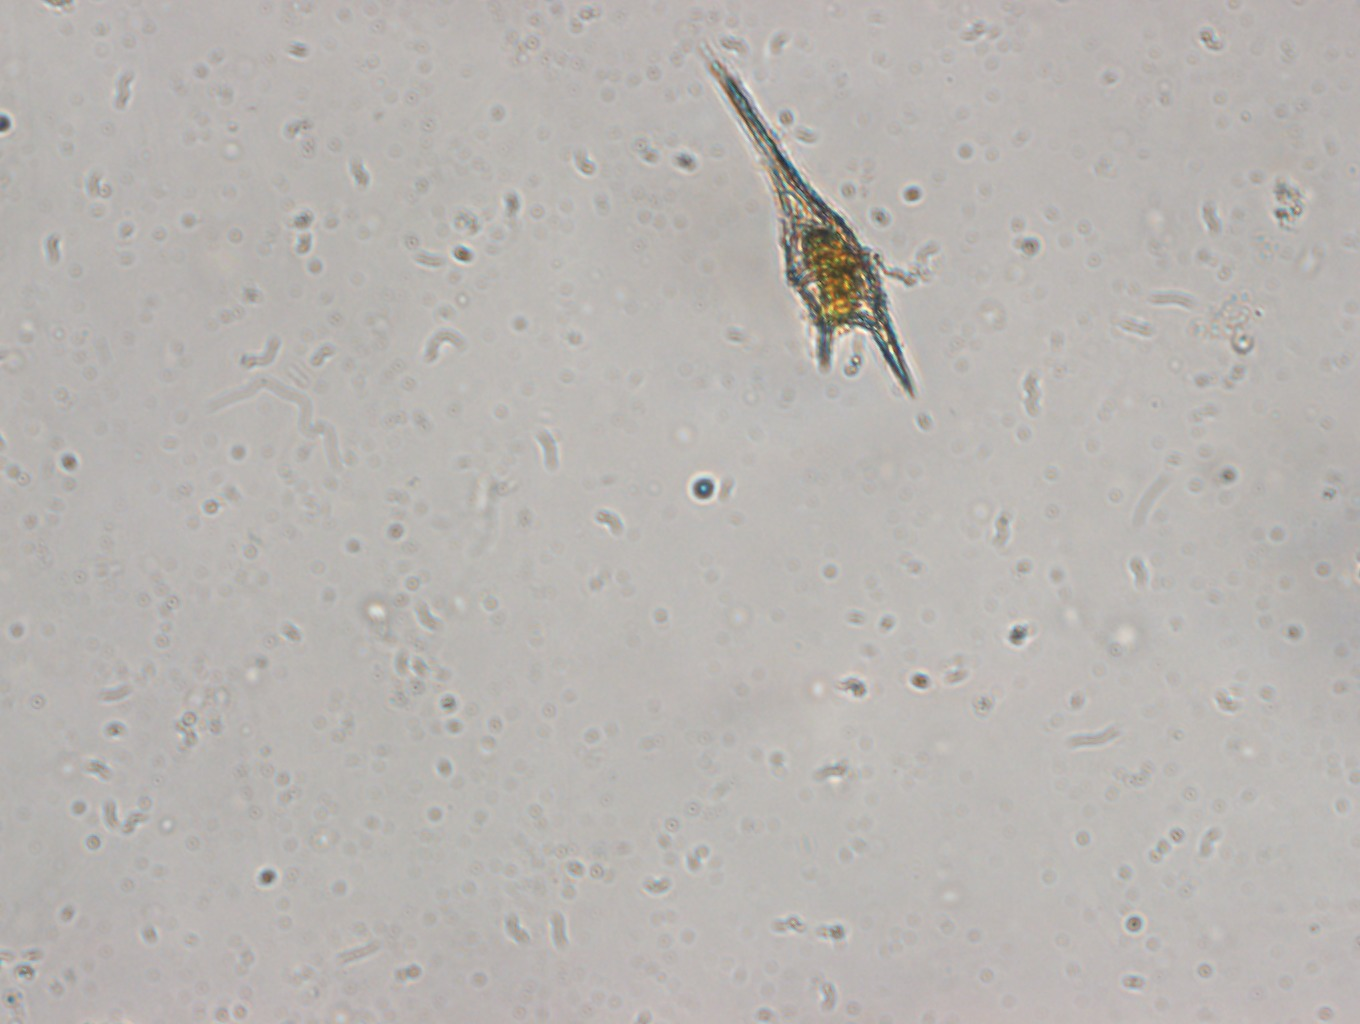ceratium furca: (696, 41, 918, 400)
